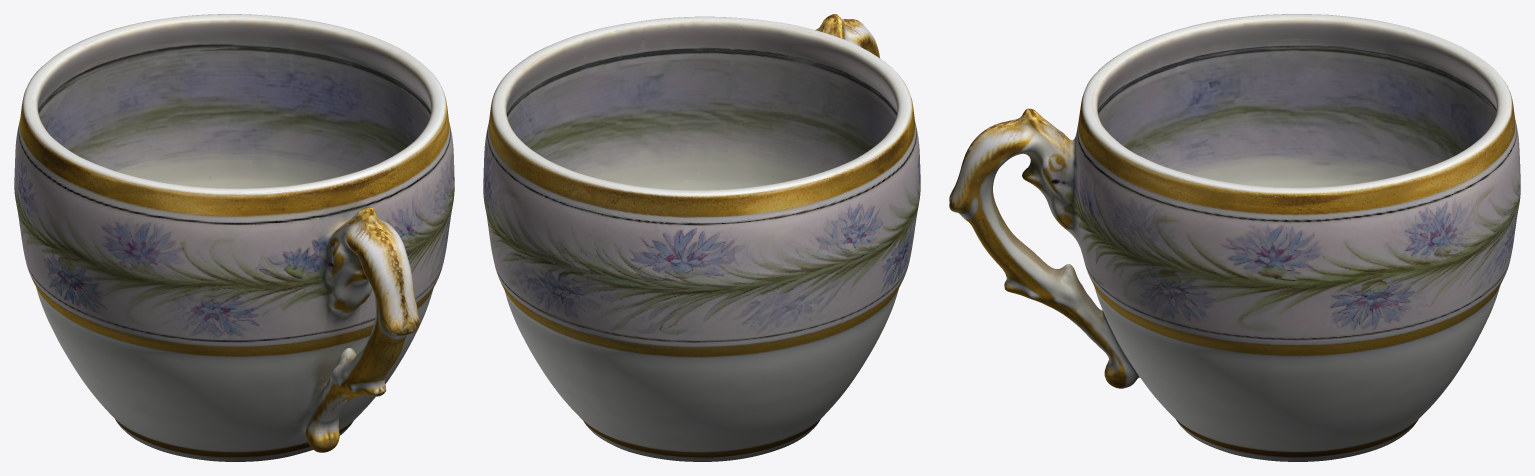
File: porcelain-cup.glb
3 views of the same model, side by side, from view 1: azimuth 30°, elevation 25°; view 2: azimuth 150°, elevation 25°; view 3: azimuth 270°, elevation 25° (orthographic).
Visible parts, largest first — view 1: tripo_node_4fa57491-c135-4e75-9c16-edfe88484432; view 2: tripo_node_4fa57491-c135-4e75-9c16-edfe88484432; view 3: tripo_node_4fa57491-c135-4e75-9c16-edfe88484432.
Part boxes in pixels (x1,y1,x2,y2): tripo_node_4fa57491-c135-4e75-9c16-edfe88484432: [14, 14, 454, 461]; tripo_node_4fa57491-c135-4e75-9c16-edfe88484432: [483, 14, 920, 461]; tripo_node_4fa57491-c135-4e75-9c16-edfe88484432: [949, 14, 1520, 461].
Size of the model in its own units: 0.7535 by 0.5879 by 0.9793.
Materials: 1 (1 with a texture image).
